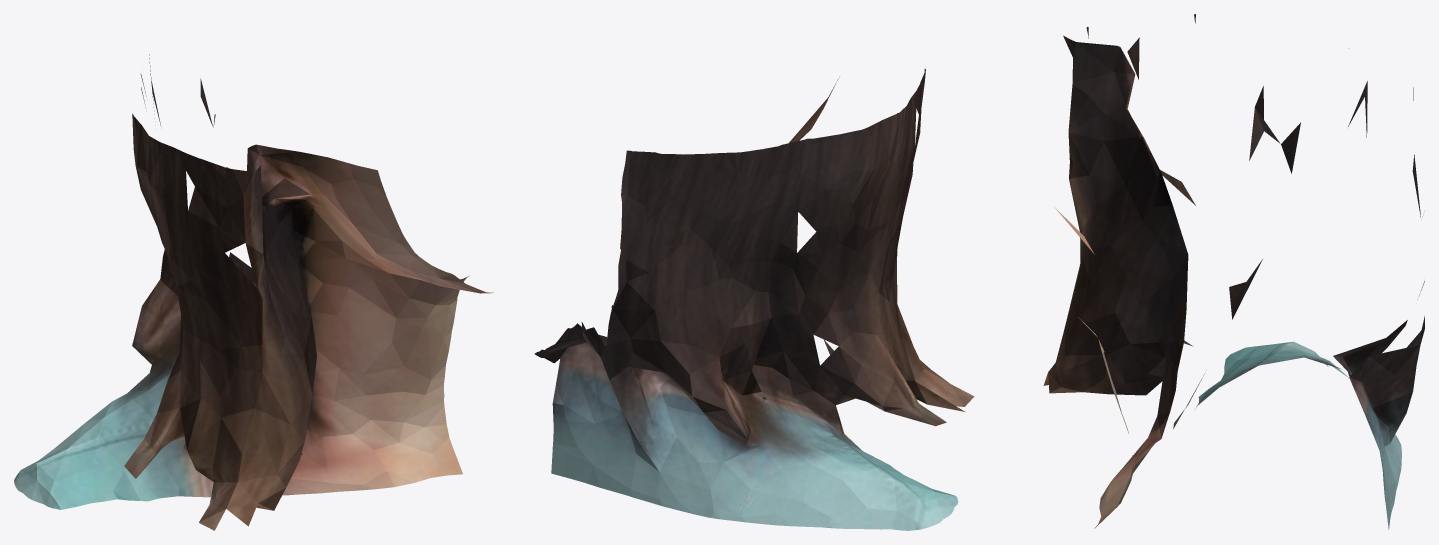
3 renders of one model, left to right at view 1: azimuth 30°, elevation 25°; view 2: azimuth 150°, elevation 25°; view 3: azimuth 270°, elevation 25°, orthographic. The views are drawn at different scales.
Bounding box in the file's own units: 171 × 171 × 171.
1 material, 1 textured.
